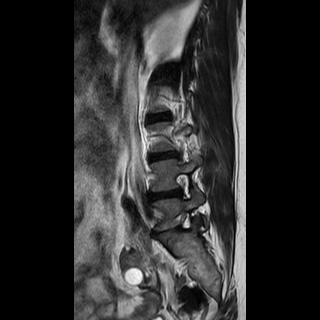RFS0: (167, 167, 202, 205)
